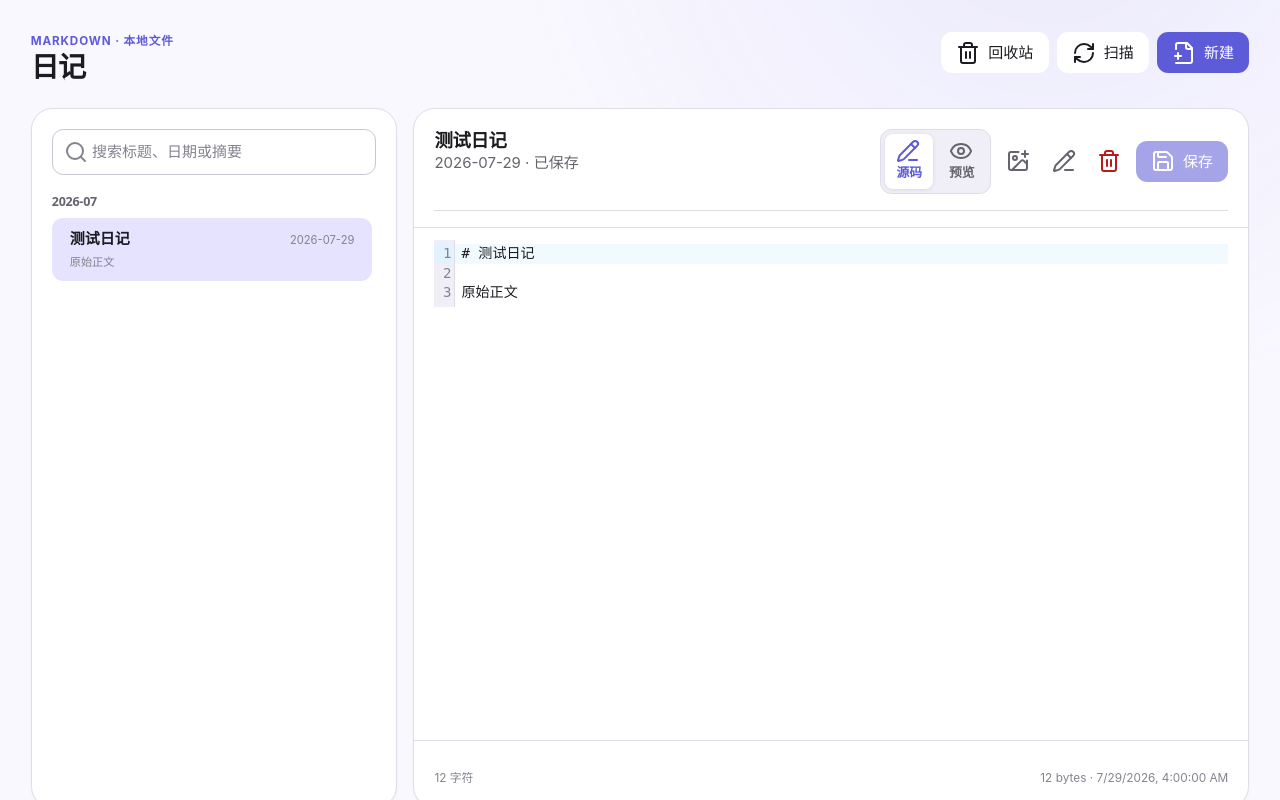
Test: DiaryPage file conflict flow › accepts an external deletion without trying to reopen the missing file
Expected: the heading "测试日记" is shown, [434,127,507,152]
Click the button named "导入图片".
click(1018, 161)  # box [999,143,1037,180]
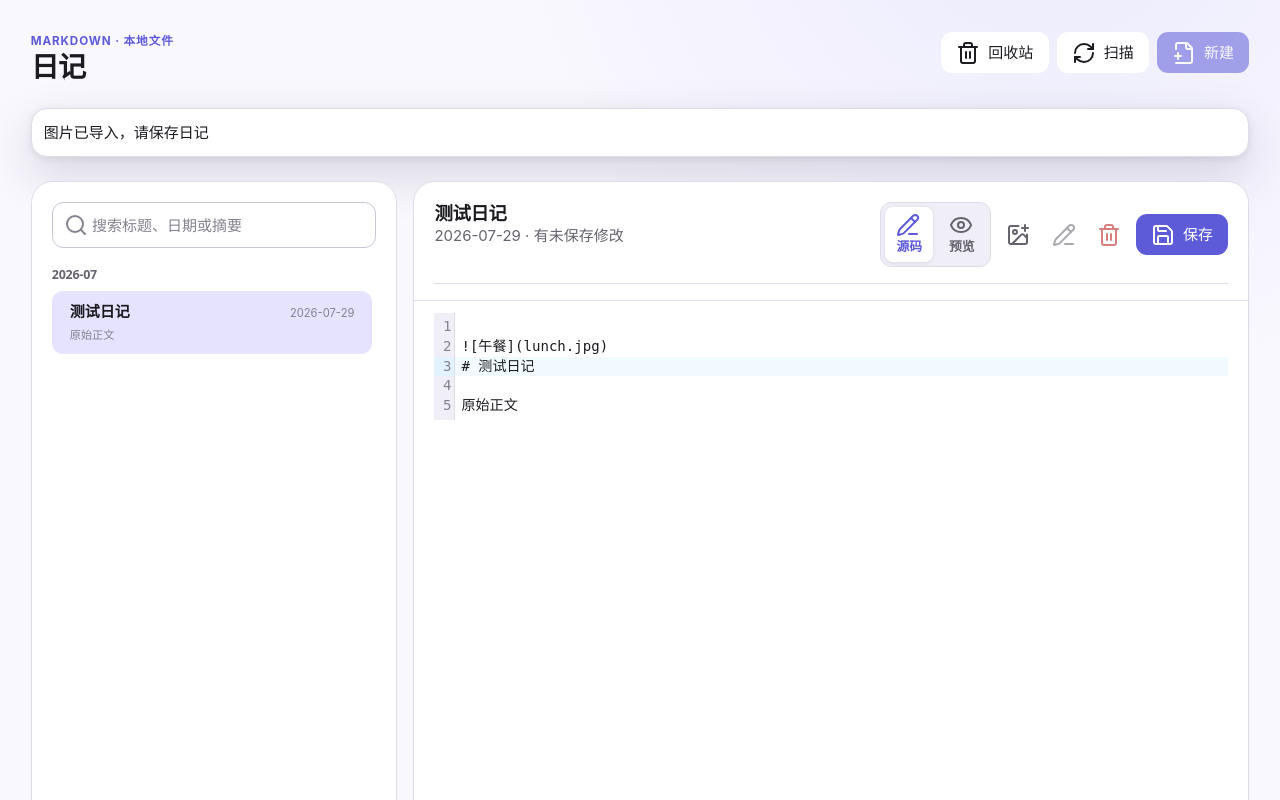
Expected: the button "保存" is enabled
Click the button "保存".
click(1182, 235)  # box [1136,214,1228,255]
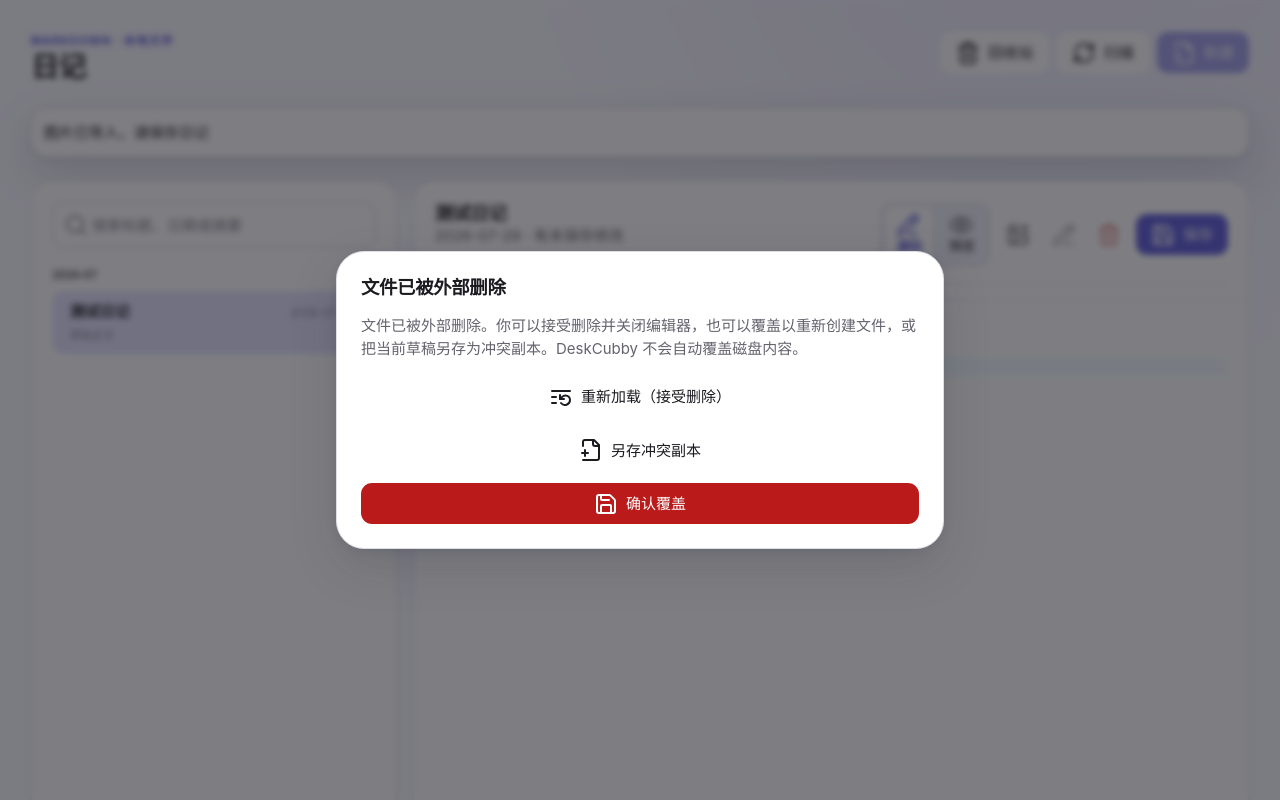
Expected: the dialog "文件已被外部删除" is shown, [361,274,506,299]
Expected: the dialog "文件已被外部删除" shows "覆盖以重新创建文件", [361,316,916,358]
Expected: the button "另存冲突副本" is shown, [361,430,919,471]
Click the button "重新加载（接受删除）".
click(640, 397)  # box [361,376,919,418]
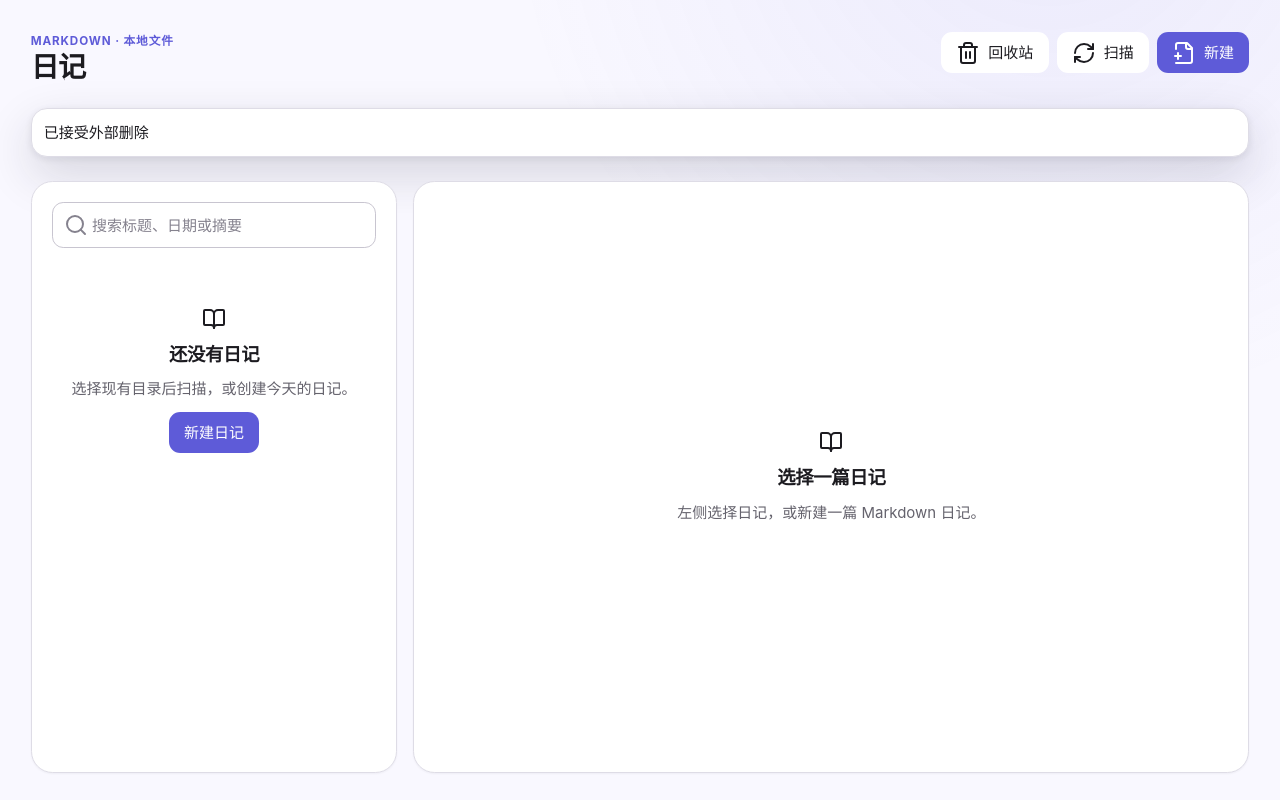
Expected: the heading "选择一篇日记" is shown, [777,466,886,489]
Expected: the dialog is gone
